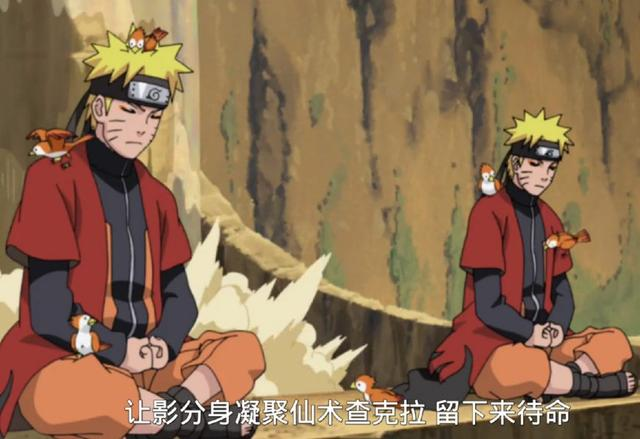naruto: (87, 66, 178, 165), (505, 133, 569, 202)
